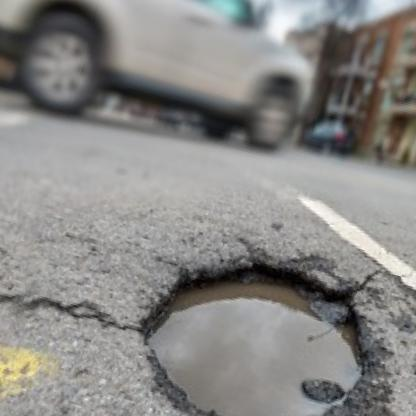pothole: (123, 226, 394, 416)
